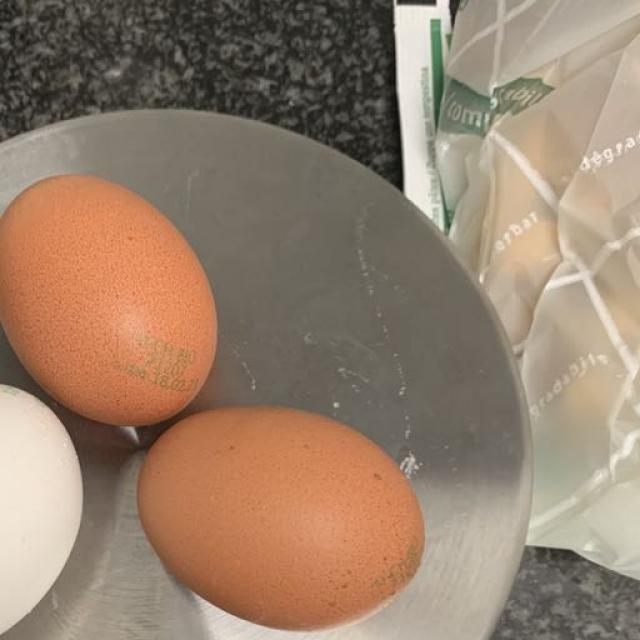egg: (9, 190, 450, 635)
